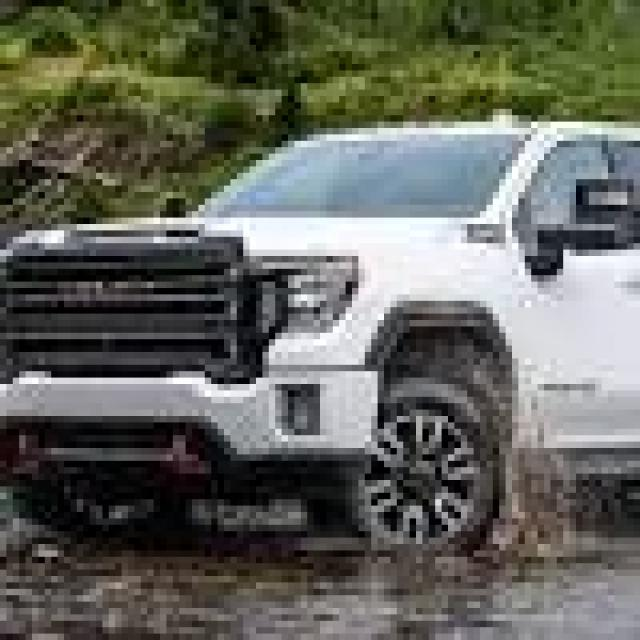light_vehicle: (0, 77, 634, 595)
